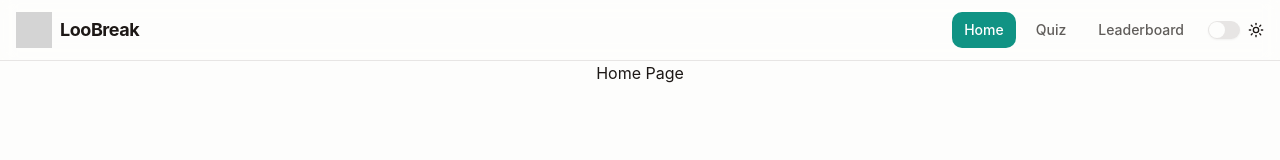
Test: NavBar › quiz button redirects to quizpage
This screenshot has width=1280, height=160.
Click the link "Quiz" at (1051, 30), box [1036, 21, 1066, 38]
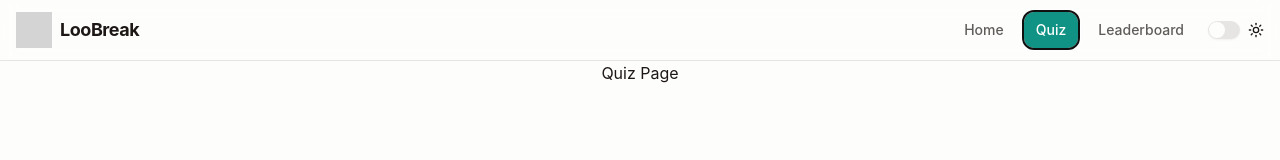
Check: the text "Quiz Page" is shown, box [601, 63, 679, 83]
